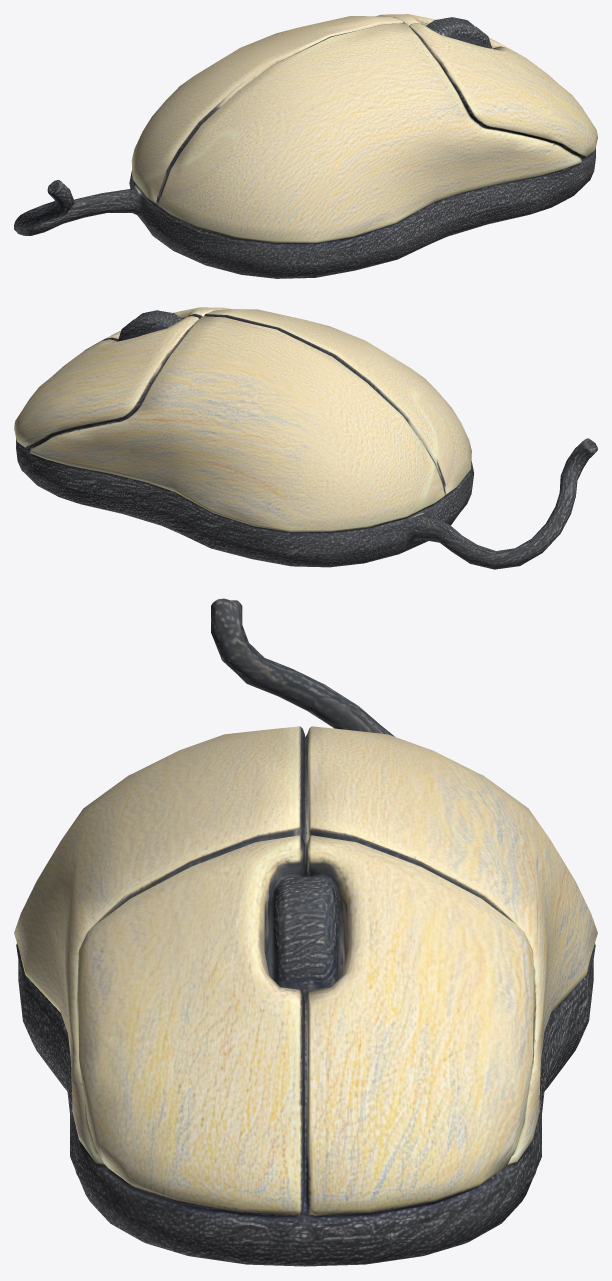
Rendered from SchoolMouse.fbx.
The picture shows the model from 3 angles, top to bottom: view 1: azimuth 30°, elevation 25°; view 2: azimuth 150°, elevation 25°; view 3: azimuth 270°, elevation 25°; orthographic projection. The views are drawn at different scales.
Parts seen in each view (by area): view 1: tripo_node_7f8a9648-3e49-4e92-89a0-db7f170209bb; view 2: tripo_node_7f8a9648-3e49-4e92-89a0-db7f170209bb; view 3: tripo_node_7f8a9648-3e49-4e92-89a0-db7f170209bb.
Boxes of the visible parts, bbox=[...] form: tripo_node_7f8a9648-3e49-4e92-89a0-db7f170209bb: bbox=[14, 14, 597, 278]; tripo_node_7f8a9648-3e49-4e92-89a0-db7f170209bb: bbox=[14, 307, 597, 569]; tripo_node_7f8a9648-3e49-4e92-89a0-db7f170209bb: bbox=[14, 598, 597, 1266].
Size of the model in its own units: 100 by 30.72 by 51.08.
1 material, 1 textured.
